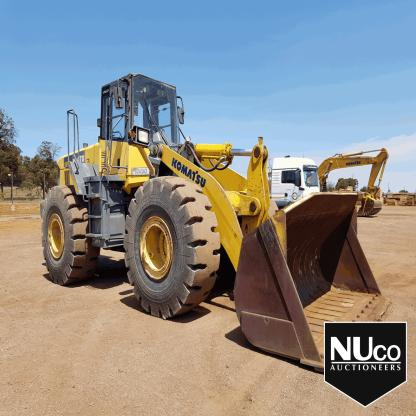bull_dozer/loader/grader: (38, 69, 396, 376)
